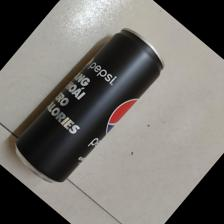Pepsi: (15, 26, 167, 186)
